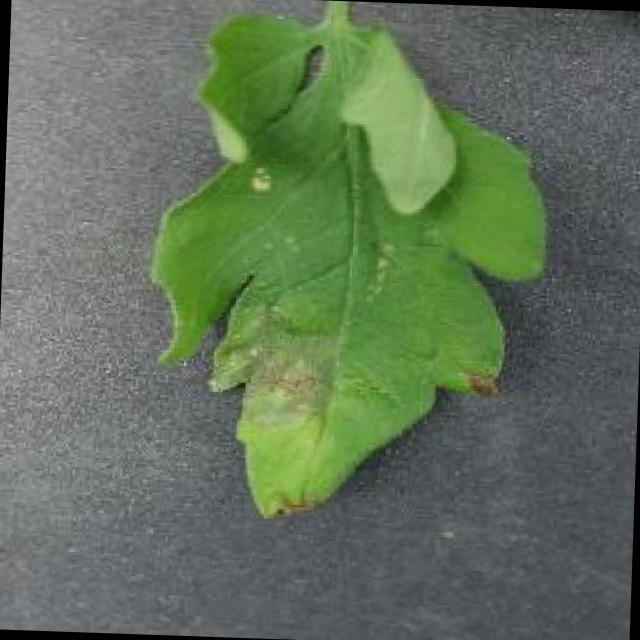Tomato_Late_Blight: (211, 283, 370, 439)
